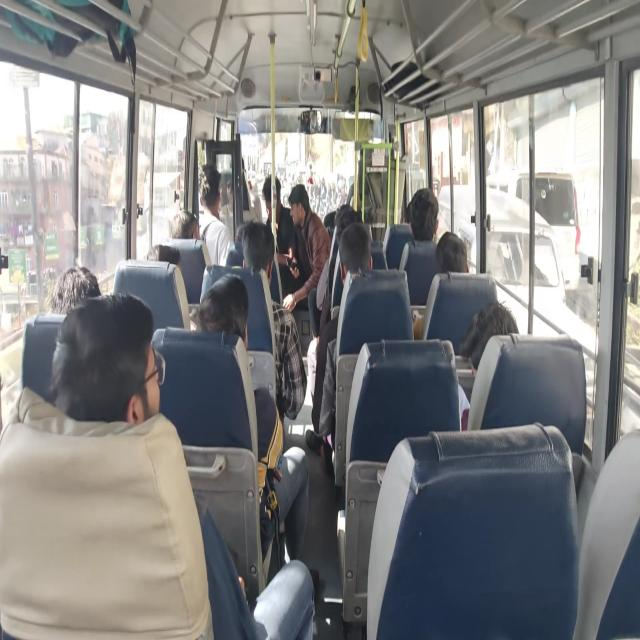person: (49, 296, 168, 433), (196, 268, 262, 377), (462, 286, 514, 372), (331, 218, 376, 283), (46, 265, 100, 318), (431, 224, 473, 284), (237, 217, 280, 274), (408, 180, 442, 242), (195, 158, 228, 217), (143, 234, 185, 271), (259, 174, 286, 224), (172, 200, 206, 237), (356, 130, 381, 178), (226, 217, 253, 260), (398, 188, 424, 222), (291, 187, 312, 229), (331, 196, 354, 227)
